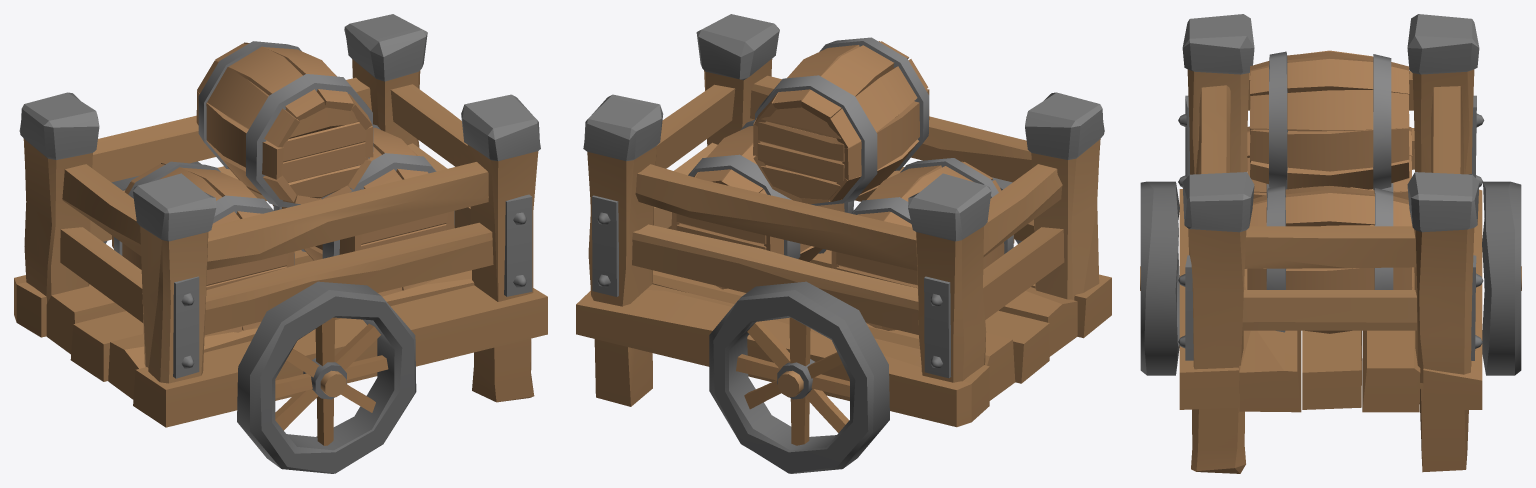
Rendered from Wagon_A.fbx.
3 views of the same model, side by side, from view 1: azimuth 30°, elevation 25°; view 2: azimuth 150°, elevation 25°; view 3: azimuth 270°, elevation 25° (orthographic).
Parts seen in each view (by area): view 1: Wagon_A; view 2: Wagon_A; view 3: Wagon_A.
Part boxes in pixels (bbox=[...]): Wagon_A: bbox=[14, 14, 547, 473]; Wagon_A: bbox=[576, 14, 1111, 473]; Wagon_A: bbox=[1140, 14, 1521, 473].
Size of the model in its own units: 175 by 144 by 150.
